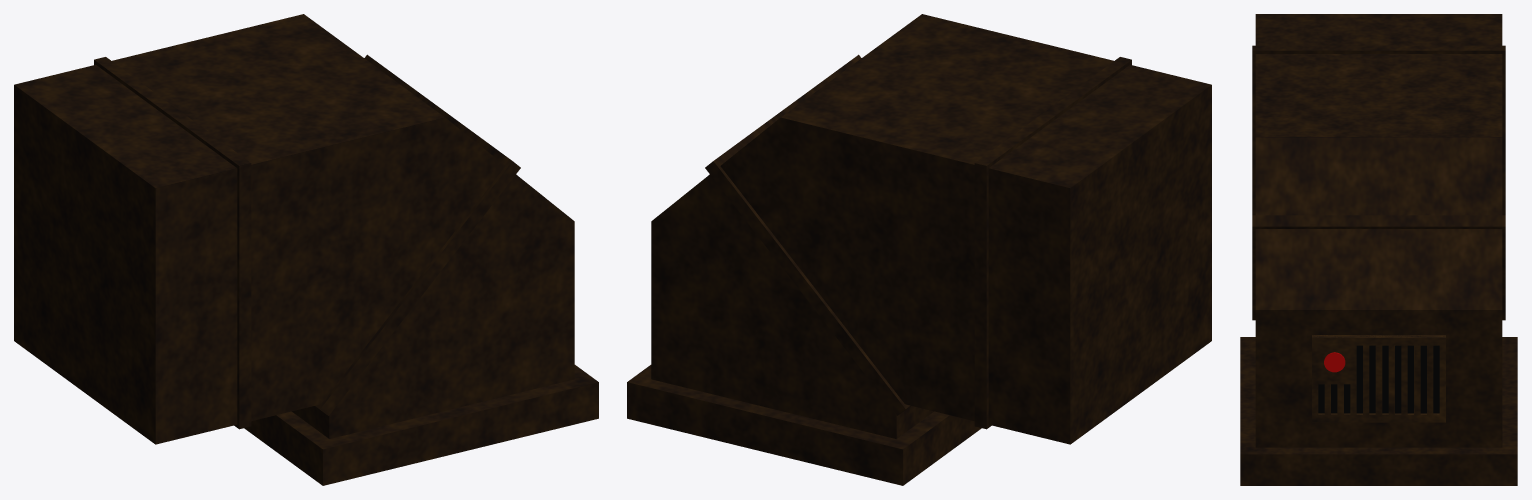
The model's file is spawner.fbx.
3 renders of one model, left to right at view 1: azimuth 30°, elevation 25°; view 2: azimuth 150°, elevation 25°; view 3: azimuth 270°, elevation 25°, orthographic. The views are drawn at different scales.
Visible parts, largest first — view 1: Cube; view 2: Cube; view 3: Cube, Cube.001, Cylinder.
Boxes of the visible parts, <box> form: Cube: <box>14,14,598,485</box>; Cube: <box>627,14,1211,485</box>; Cube: <box>1240,14,1517,485</box>; Cube.001: <box>1312,335,1445,422</box>; Cylinder: <box>1324,352,1345,372</box>.
Bounding box in the file's own units: 88.65 × 65.04 × 56.31.
4 materials, 2 textured.
